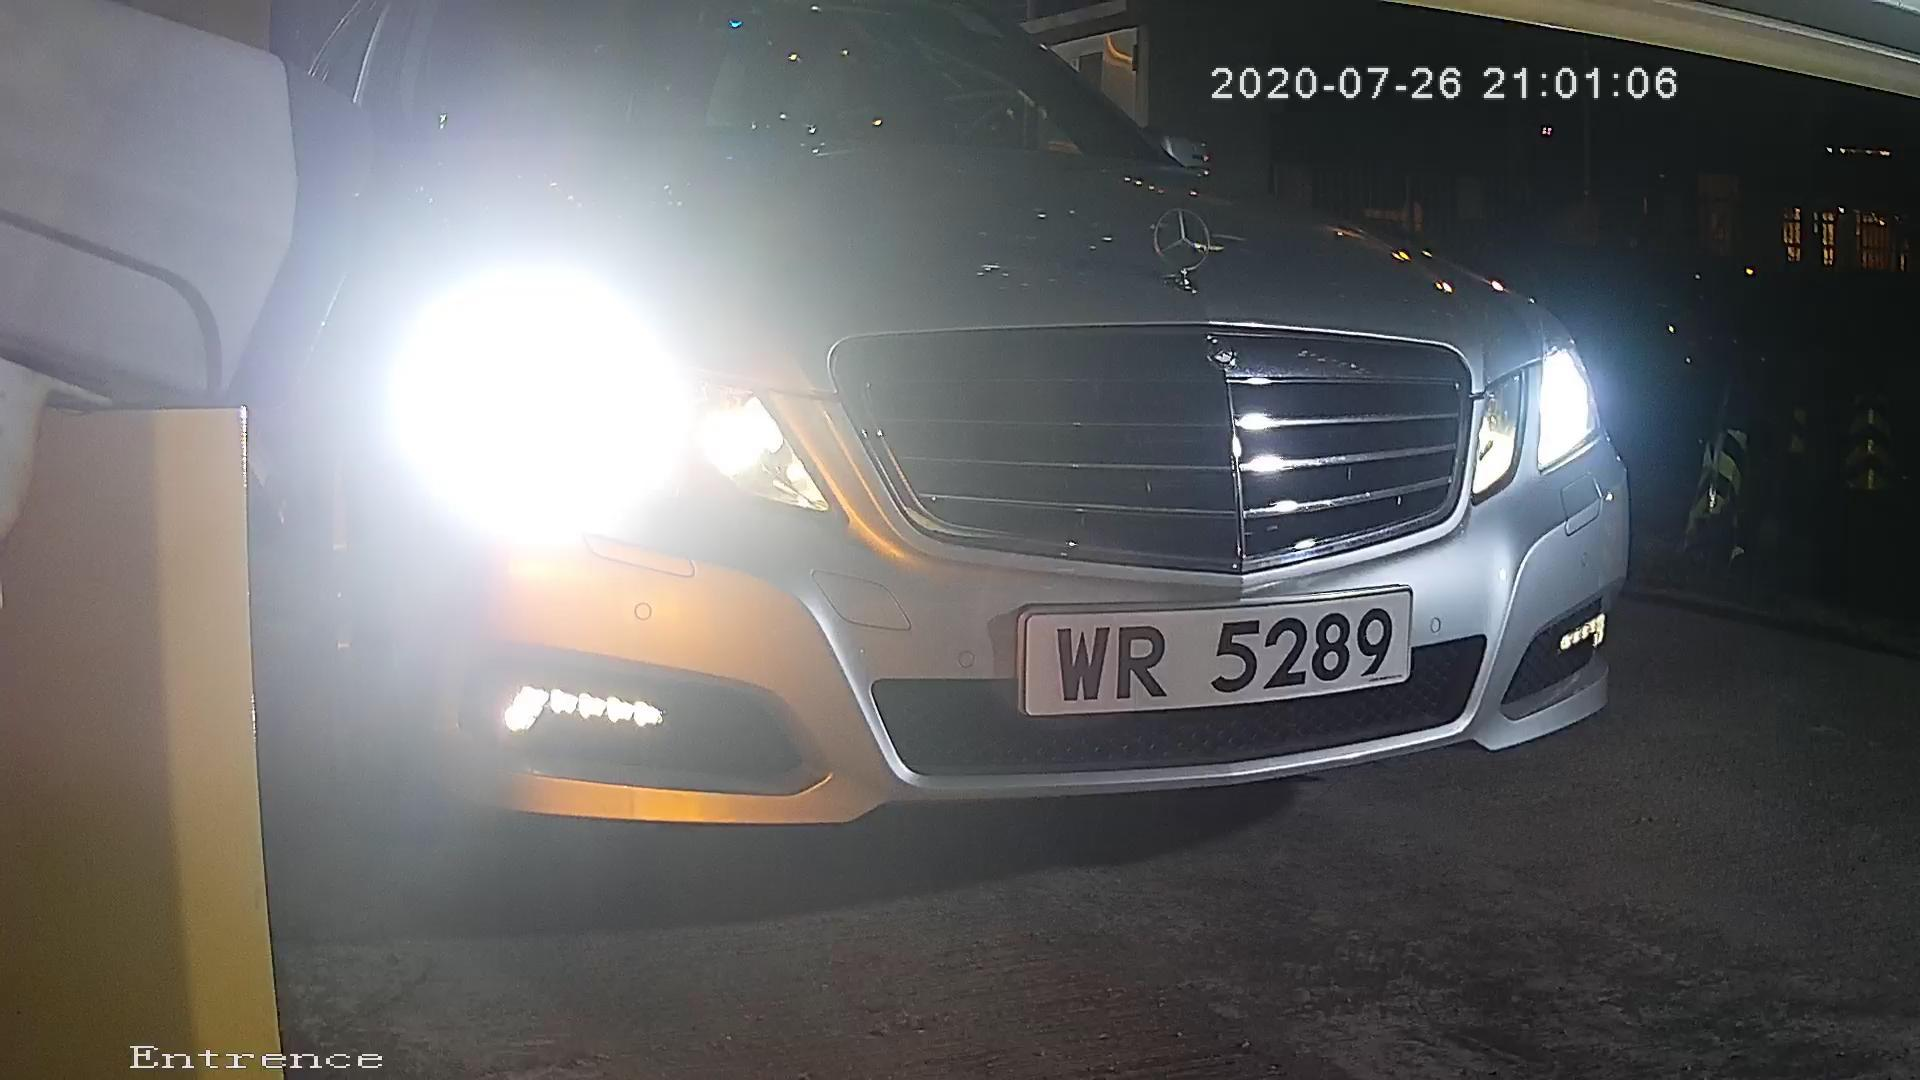License Plate: (1003, 574, 1441, 724)
